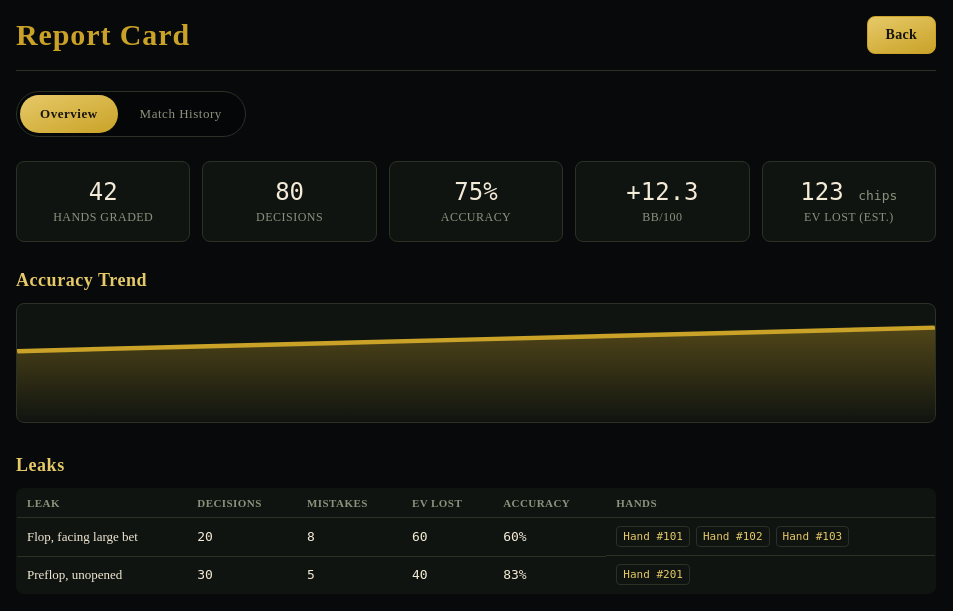
Test case: ReportCard match history › switches to the Match History tab and lists sessions
Click the tab "Match History".
click(181, 114)  # box top-left (120, 95), bottom-right (242, 133)
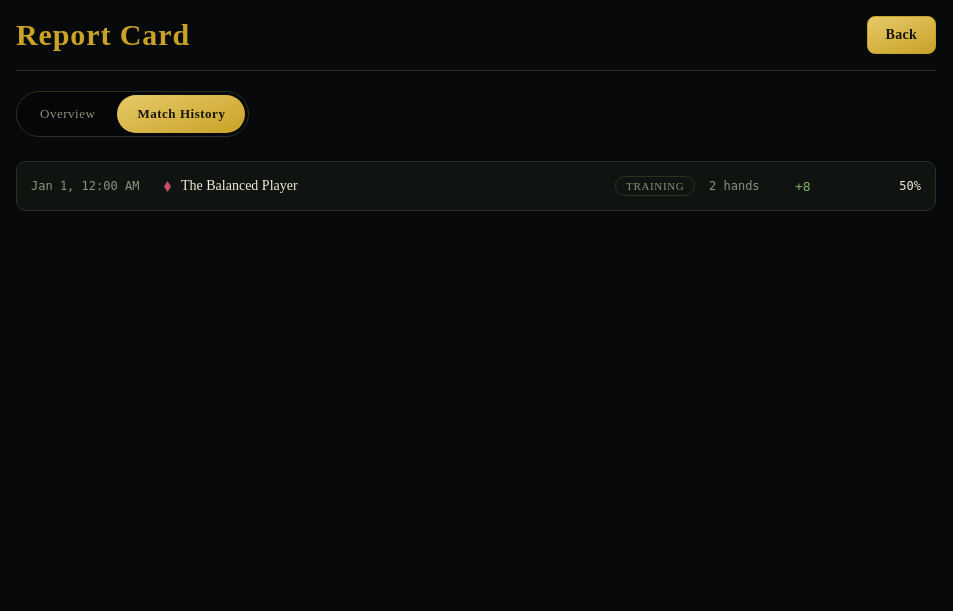
Check: the text "The Balanced Player" is shown, box top-left (161, 178), bottom-right (298, 193)
Check: the text "Training" is shown, box top-left (615, 176), bottom-right (696, 196)
Check: the text "+8" is shown, box top-left (795, 178), bottom-right (811, 194)
